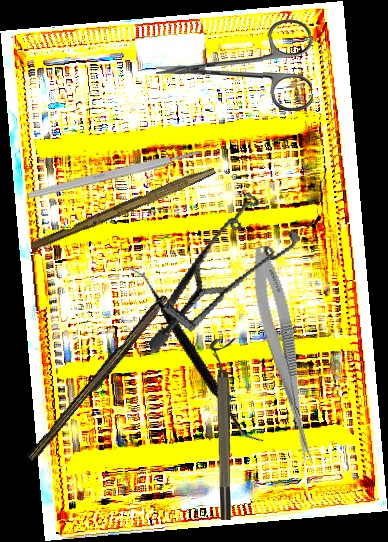Fixation Ring: (210, 339, 234, 520)
Iris Scissors: (155, 18, 313, 114)
Micro Scissor: (243, 243, 328, 468)
Scalpel Handle: (26, 291, 172, 467), (29, 161, 217, 255), (26, 147, 202, 201)
Spatula Surgical: (82, 263, 307, 445)
Speculum: (119, 183, 319, 354)
